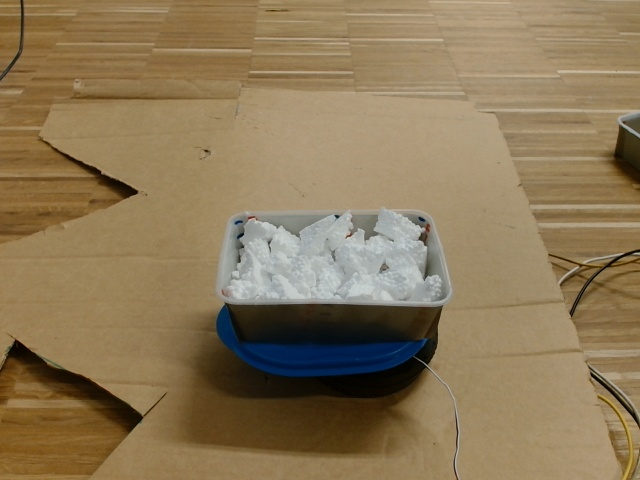Small_threequarter: (220, 206, 455, 313)
